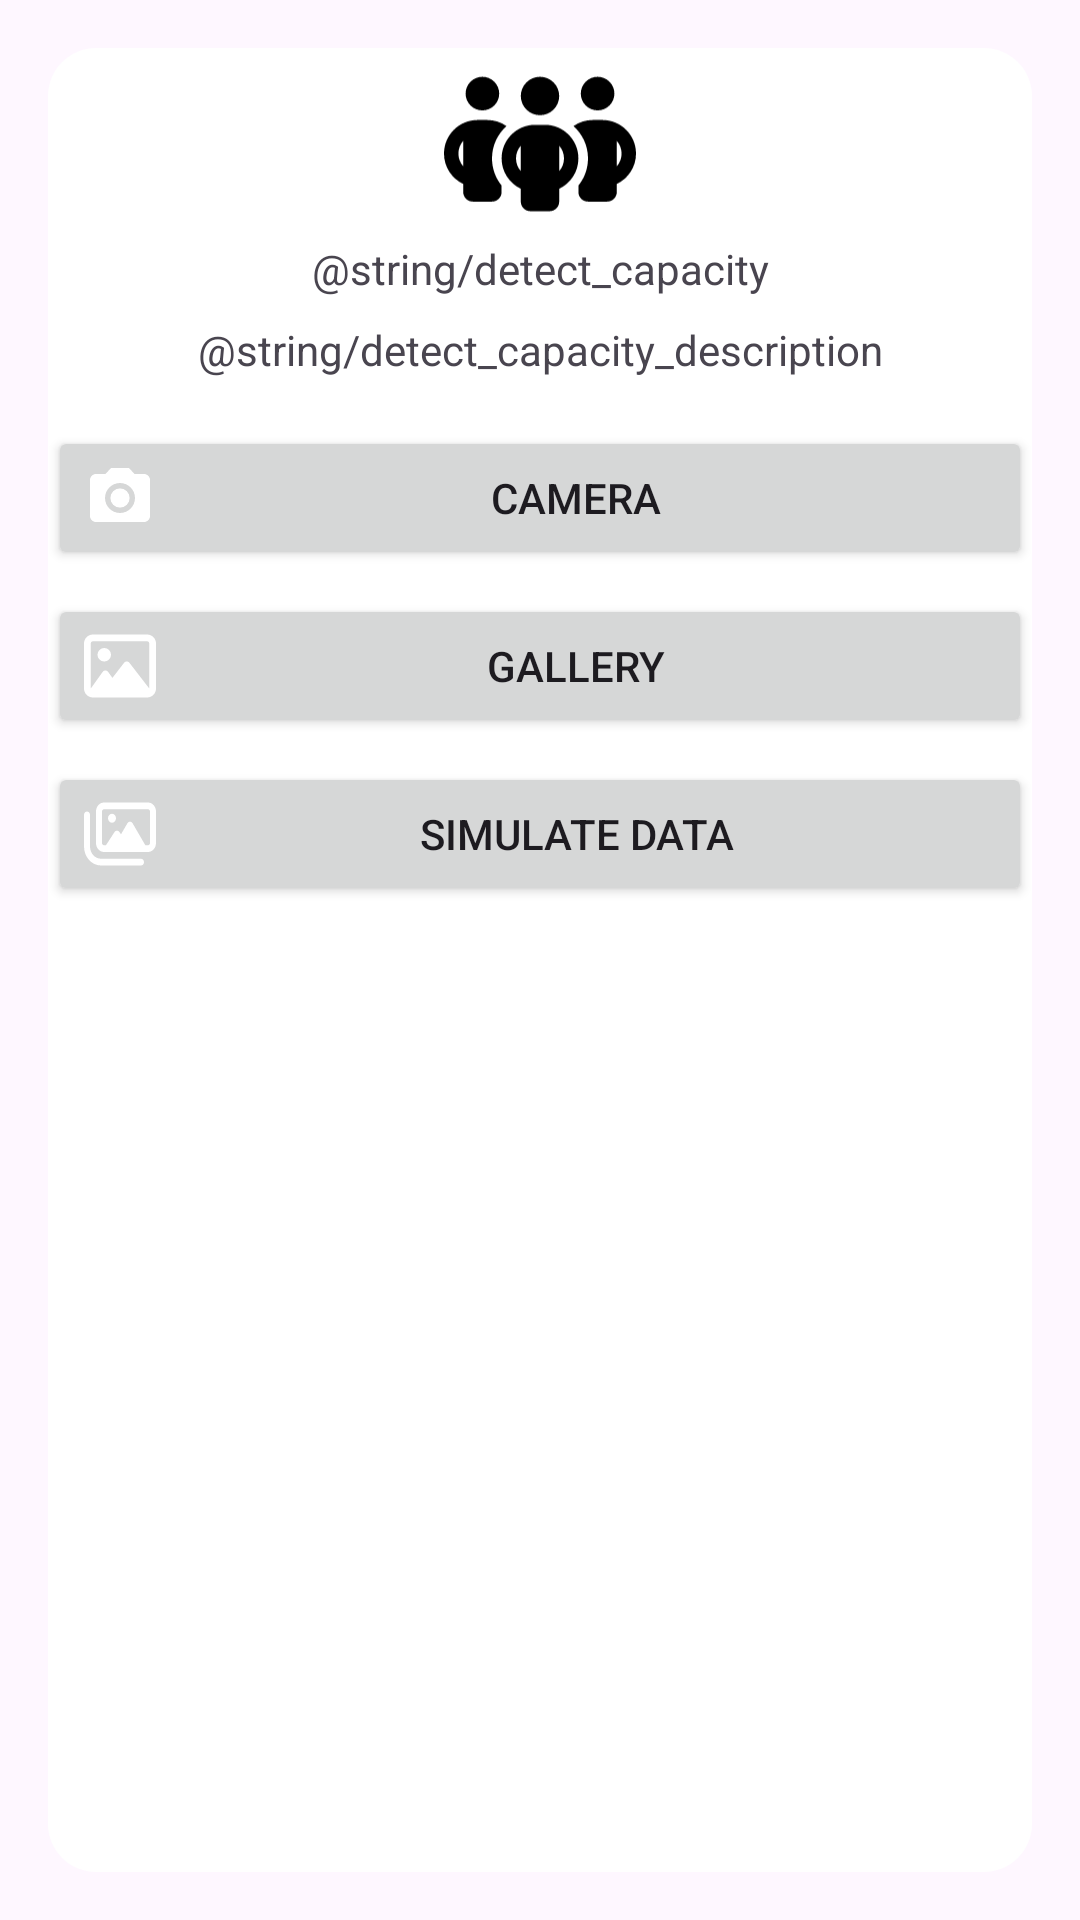

Named icons in this screenshot (1080 x 1920) and their centers, [x,y]:
group of people: [540,144]
